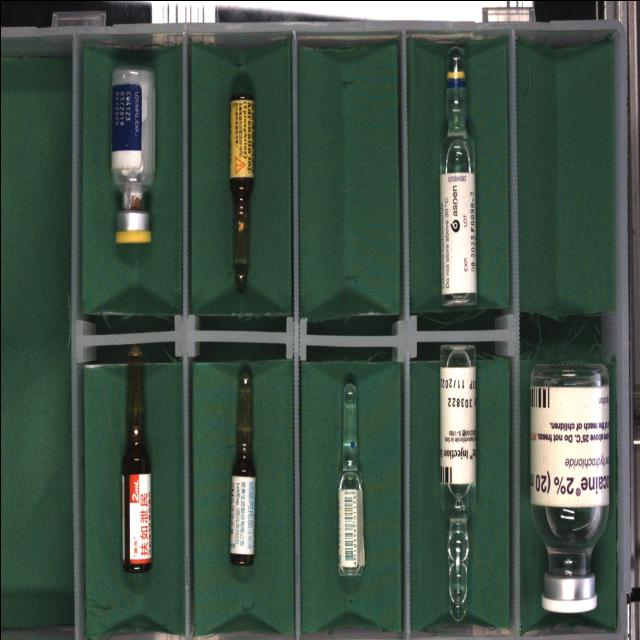Vials: (530, 360, 610, 613), (111, 66, 154, 243)
